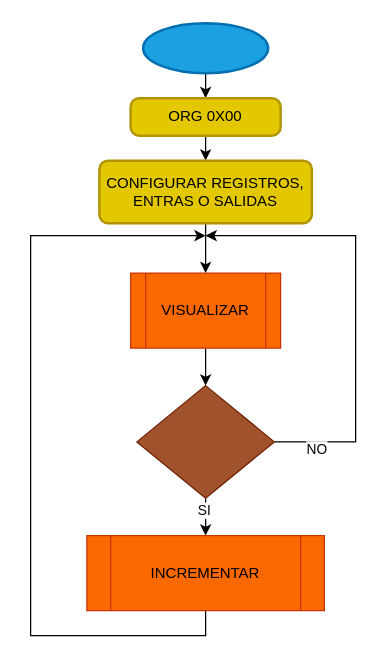
This 388x668 diagram has some shape labels left out. The shapes that lost their labels are listed below. From the top down, each one's box as (x1, y1, x2, y2) in pixels, then its label:
(141, 21, 269, 74): INICIO
(136, 384, 274, 498): PULSADOR ON?
